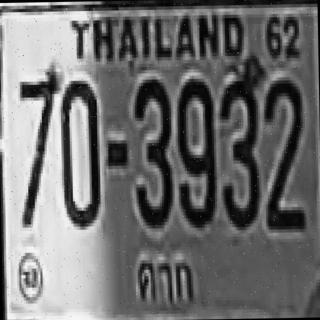N00: (59, 77, 100, 227)
N02: (262, 77, 303, 226)
N03: (218, 68, 261, 227), (132, 76, 170, 225)
N07: (17, 67, 63, 226)
N09: (174, 75, 215, 225)
P69: (129, 247, 199, 304)
